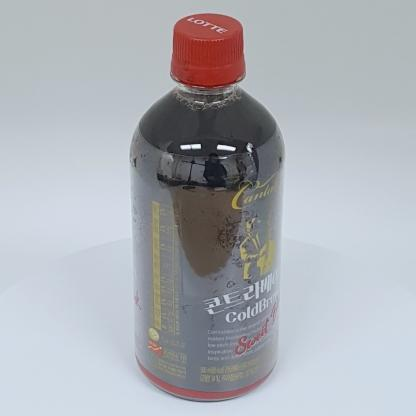-------------------500ML: (129, 13, 285, 403)
